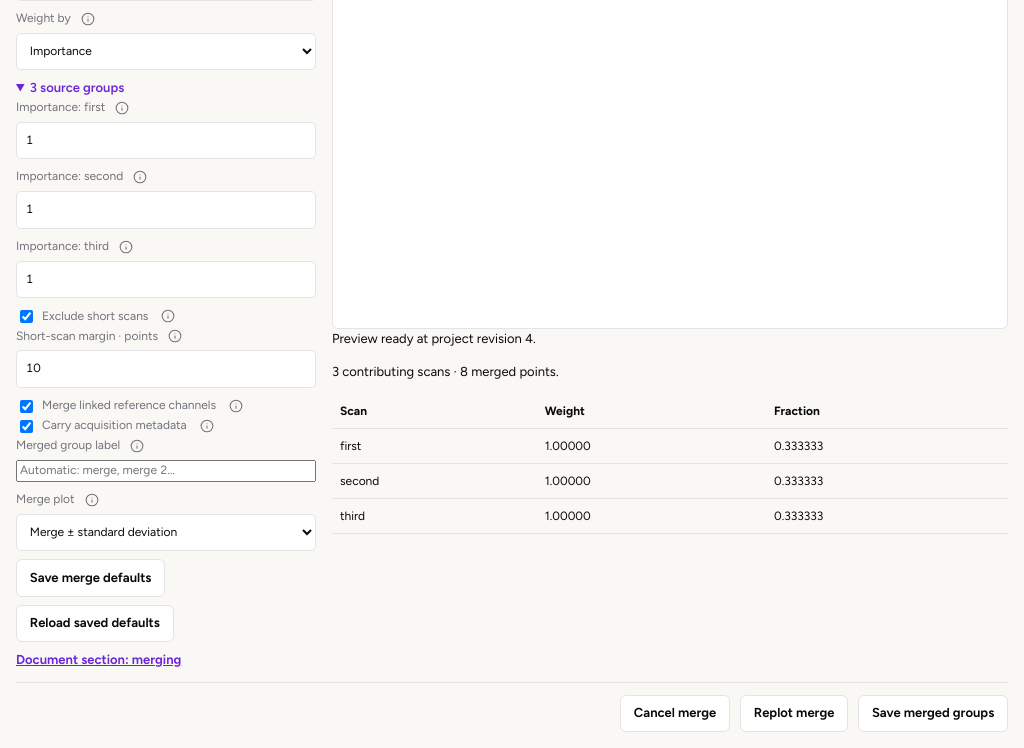
it: refuses a save response with changed source arrays
(page scrolled)
What coordinates should you click on to do the following:
click the button "Save merged groups"
I would click on:
 (933, 713)
Its box is [858,695,1008,732].
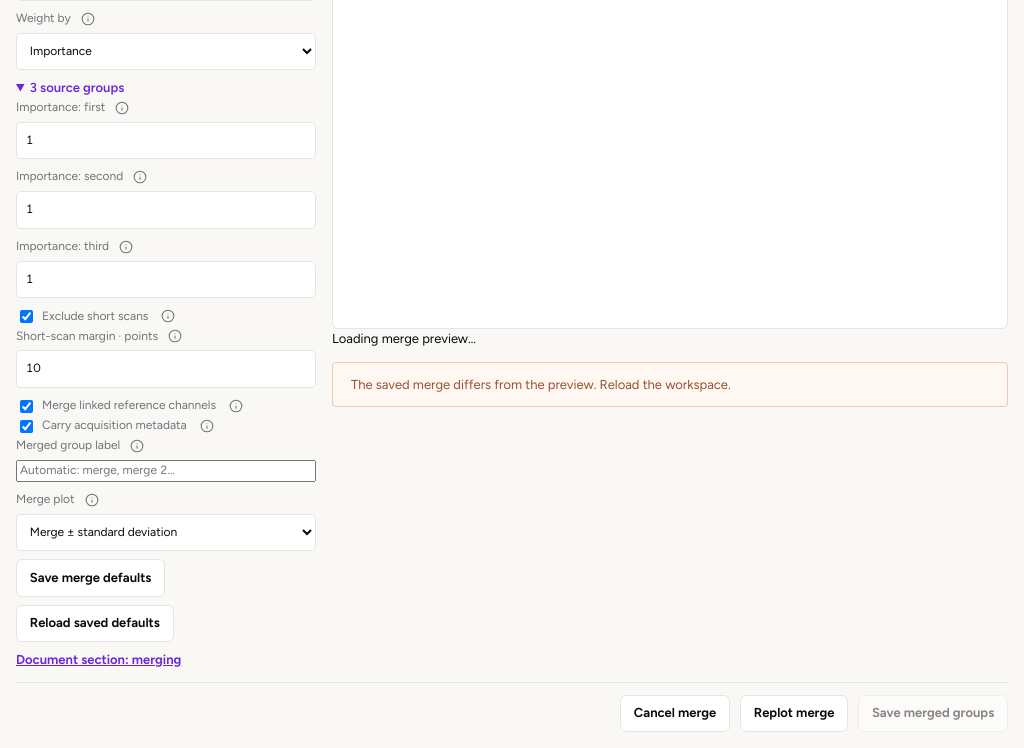
Expected: the message "The saved merge differs from the preview. Reload the workspace." is shown, [332,362,1008,407]
Expected: the button "Save merged groups" is disabled, [858,695,1008,732]
